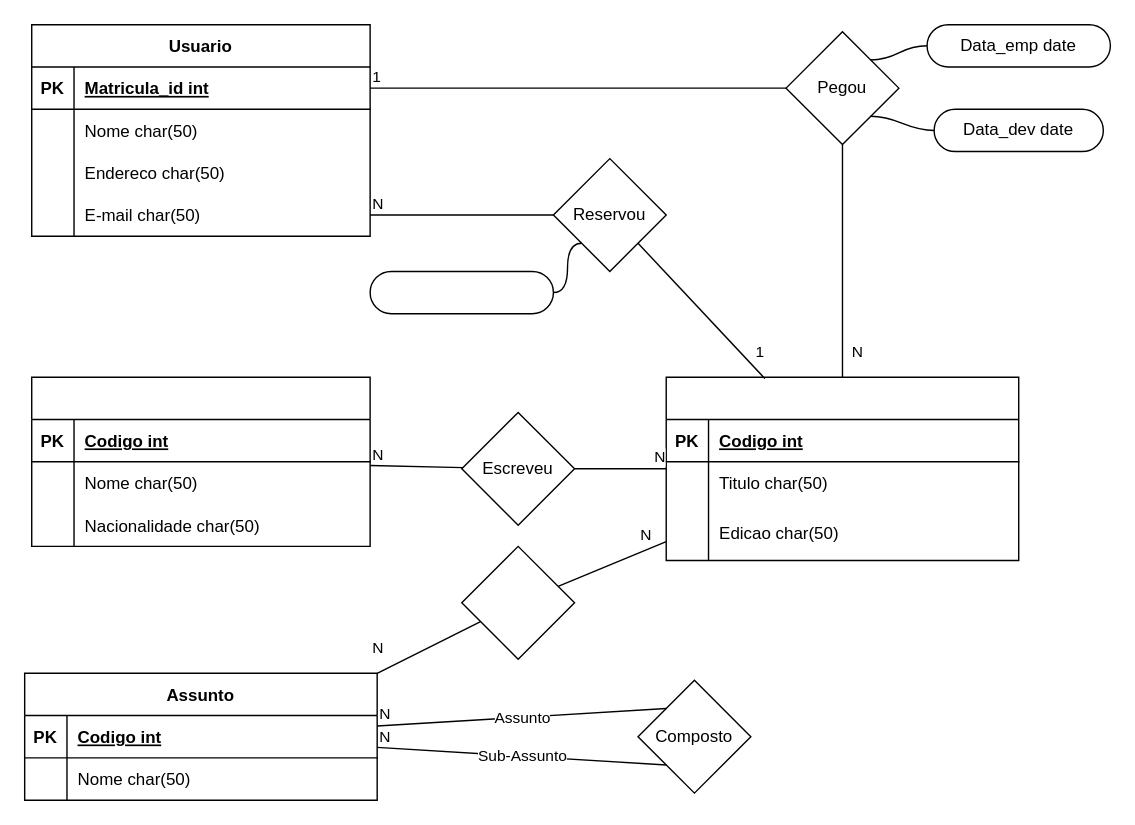
The diagram is 1135 pixels wide and 825 high, and some of its shapes have lost their labels. Here are the shapes that lost their labels. From the top down, the box of each, then its label:
(369, 270, 553, 314): Dat_reserv date
(30, 376, 370, 546): Autor
(665, 376, 1019, 560): Livros
(460, 545, 575, 659): Classificado
